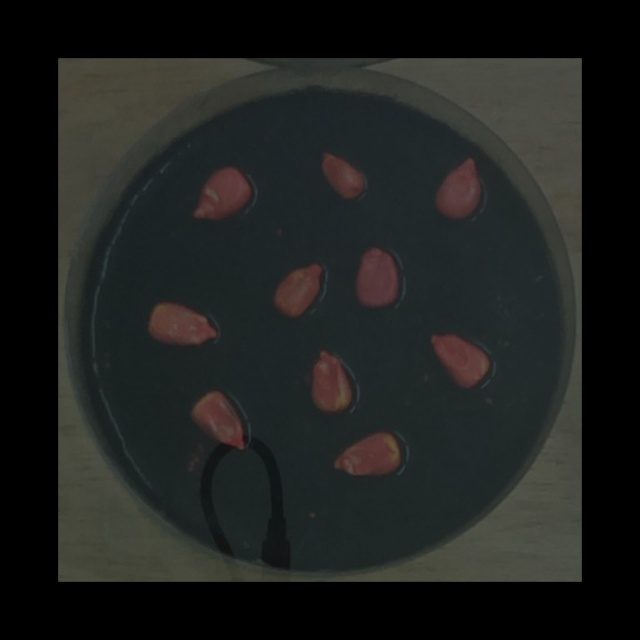Zea mays: (423, 325, 497, 396), (183, 382, 252, 457), (326, 424, 410, 483), (186, 160, 257, 229), (140, 297, 224, 352), (428, 149, 486, 225), (303, 343, 359, 419), (267, 257, 329, 324), (351, 242, 403, 315), (314, 145, 369, 205)
